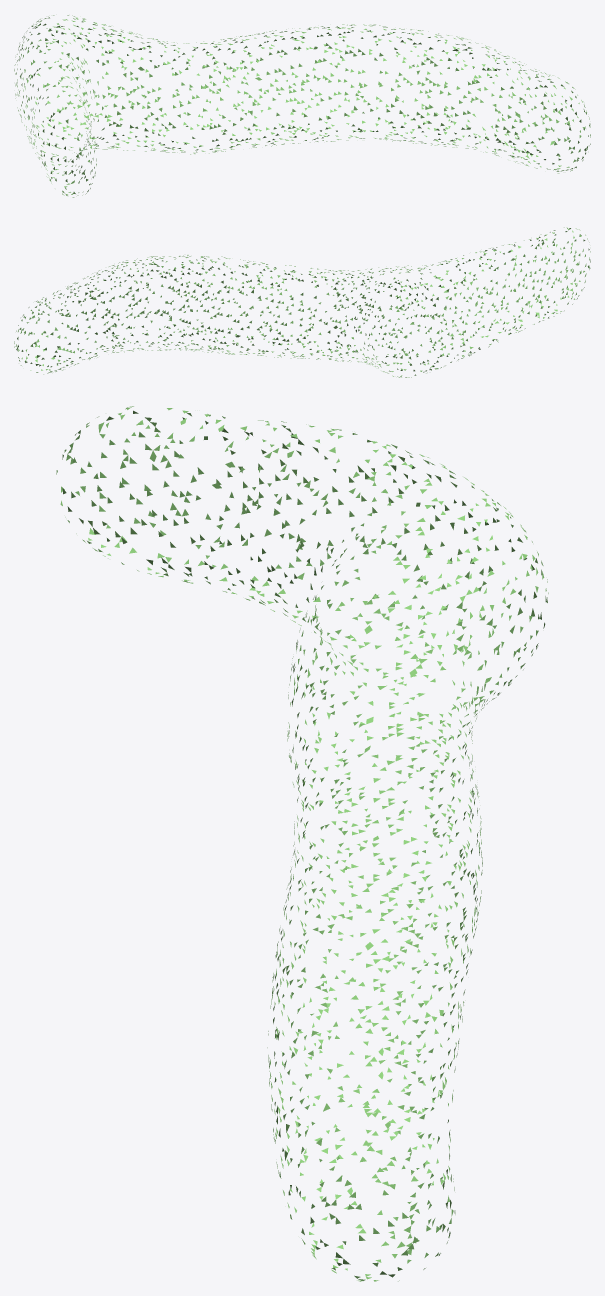
File: morph_015.glb
3 renders of one model, top to bottom at view 1: azimuth 30°, elevation 25°; view 2: azimuth 150°, elevation 25°; view 3: azimuth 270°, elevation 25°, orthographic. The views are drawn at different scales.
Size of the model in its own units: 112 by 46.8 by 48.57.
